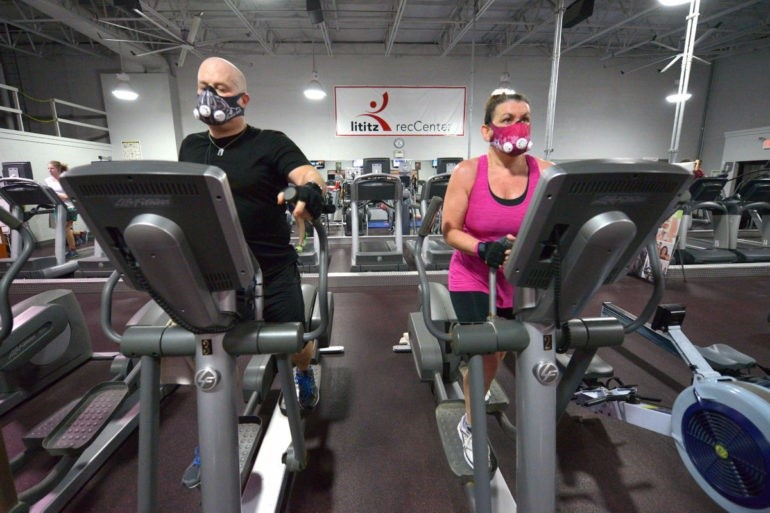face_with_mask: (188, 53, 255, 136), (487, 88, 541, 163)
